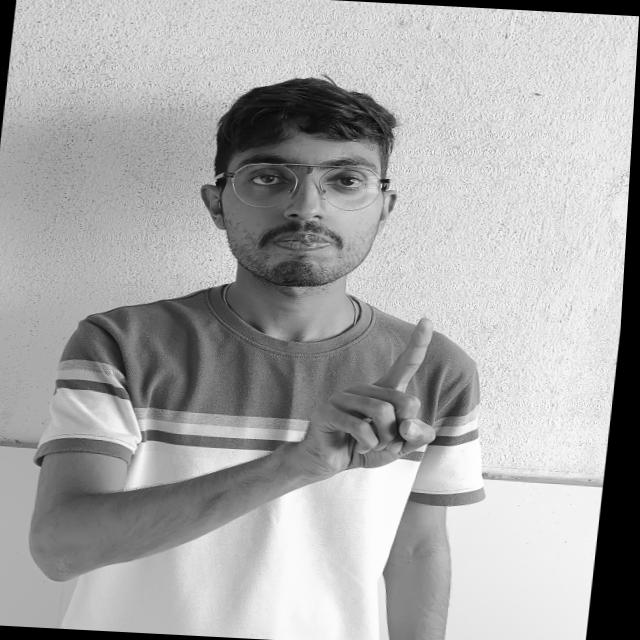Question: (239, 304, 492, 494)
